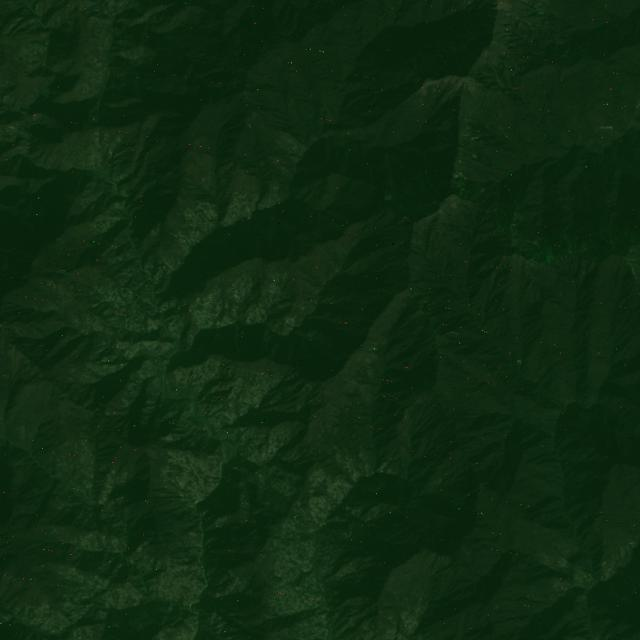landslides: (452, 171, 490, 186), (14, 326, 33, 339), (471, 129, 489, 140), (546, 518, 559, 528)
